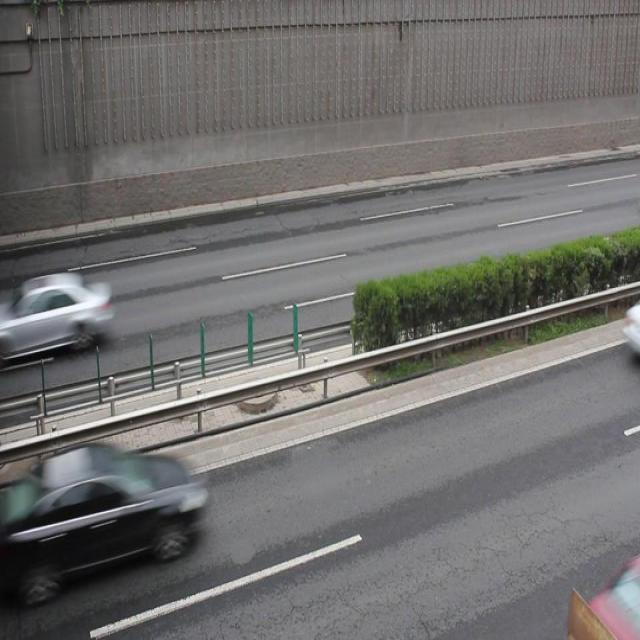car: (23, 438, 204, 598), (1, 272, 109, 359)
